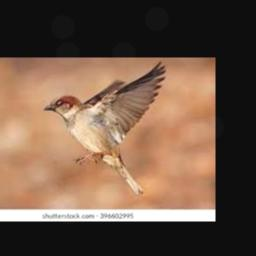Sparrow: (42, 60, 165, 194)
